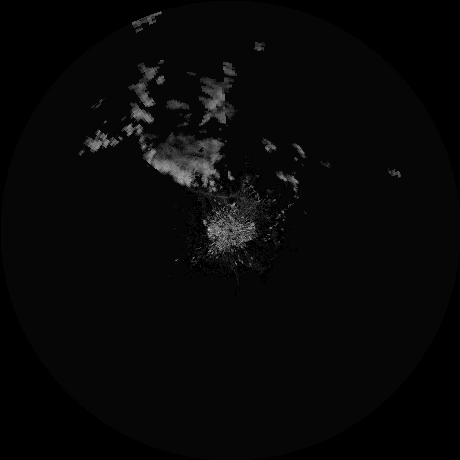frontgust: (201, 185, 249, 200)
